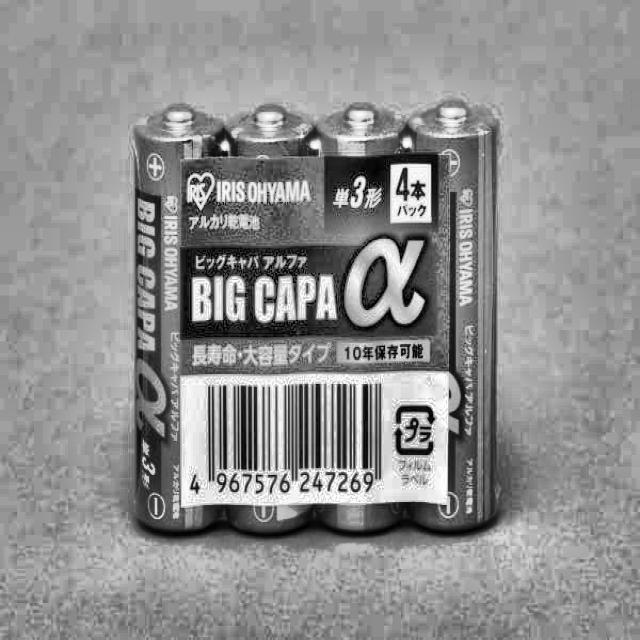drycell: (220, 99, 316, 542), (407, 93, 501, 541), (314, 94, 408, 538), (130, 102, 225, 536)
